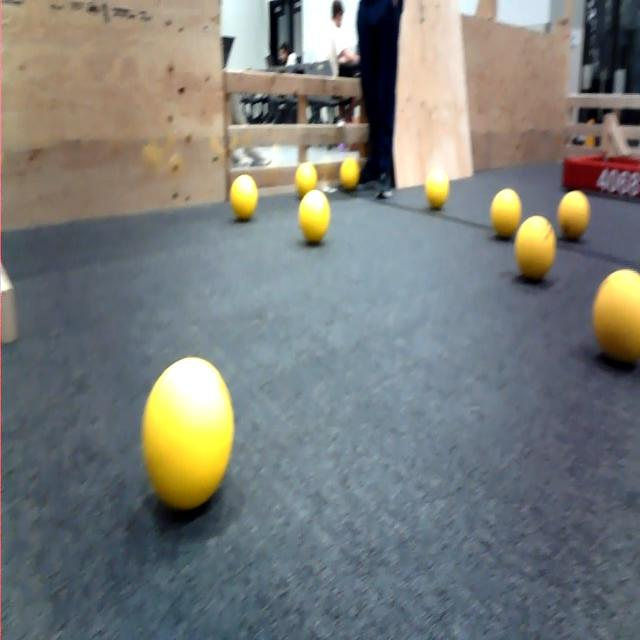fuel: (141, 358, 235, 513), (592, 262, 640, 381), (516, 214, 557, 282), (299, 185, 329, 247), (423, 161, 457, 211), (230, 171, 258, 223), (560, 189, 586, 245), (492, 189, 522, 234), (335, 154, 365, 191), (294, 159, 318, 198)
